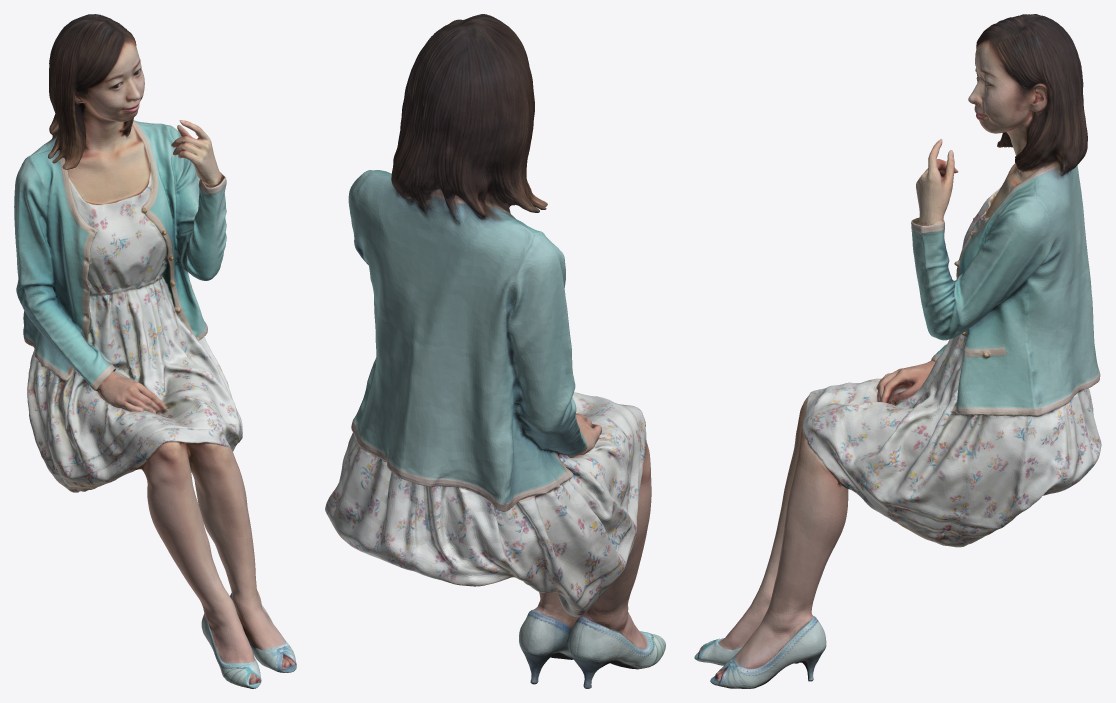
File: 091_W_Aya_100K.obj
3 renders of one model, left to right at view 1: azimuth 30°, elevation 25°; view 2: azimuth 150°, elevation 25°; view 3: azimuth 270°, elevation 25°, orthographic. The views are drawn at different scales.
Parts seen in each view (by area): view 1: 091_W_Aya_100K_01; view 2: 091_W_Aya_100K_01; view 3: 091_W_Aya_100K_01.
Boxes of the visible parts, bbox=[...] form: 091_W_Aya_100K_01: bbox=[14, 14, 296, 688]; 091_W_Aya_100K_01: bbox=[325, 14, 665, 688]; 091_W_Aya_100K_01: bbox=[694, 14, 1101, 688].
Size of the model in its own units: 424 by 1319 by 767.
Materials: 1 (1 with a texture image).
